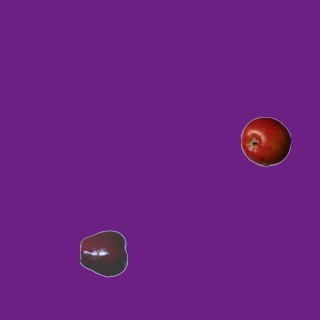Apple Braeburn: (240, 116, 290, 166)
Apple Red Delicious: (79, 228, 129, 278)
